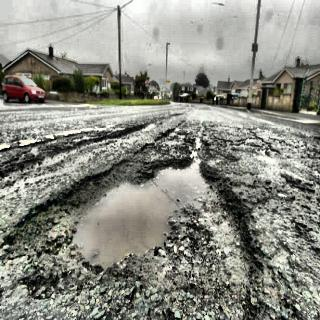pothole: (5, 150, 269, 320)
